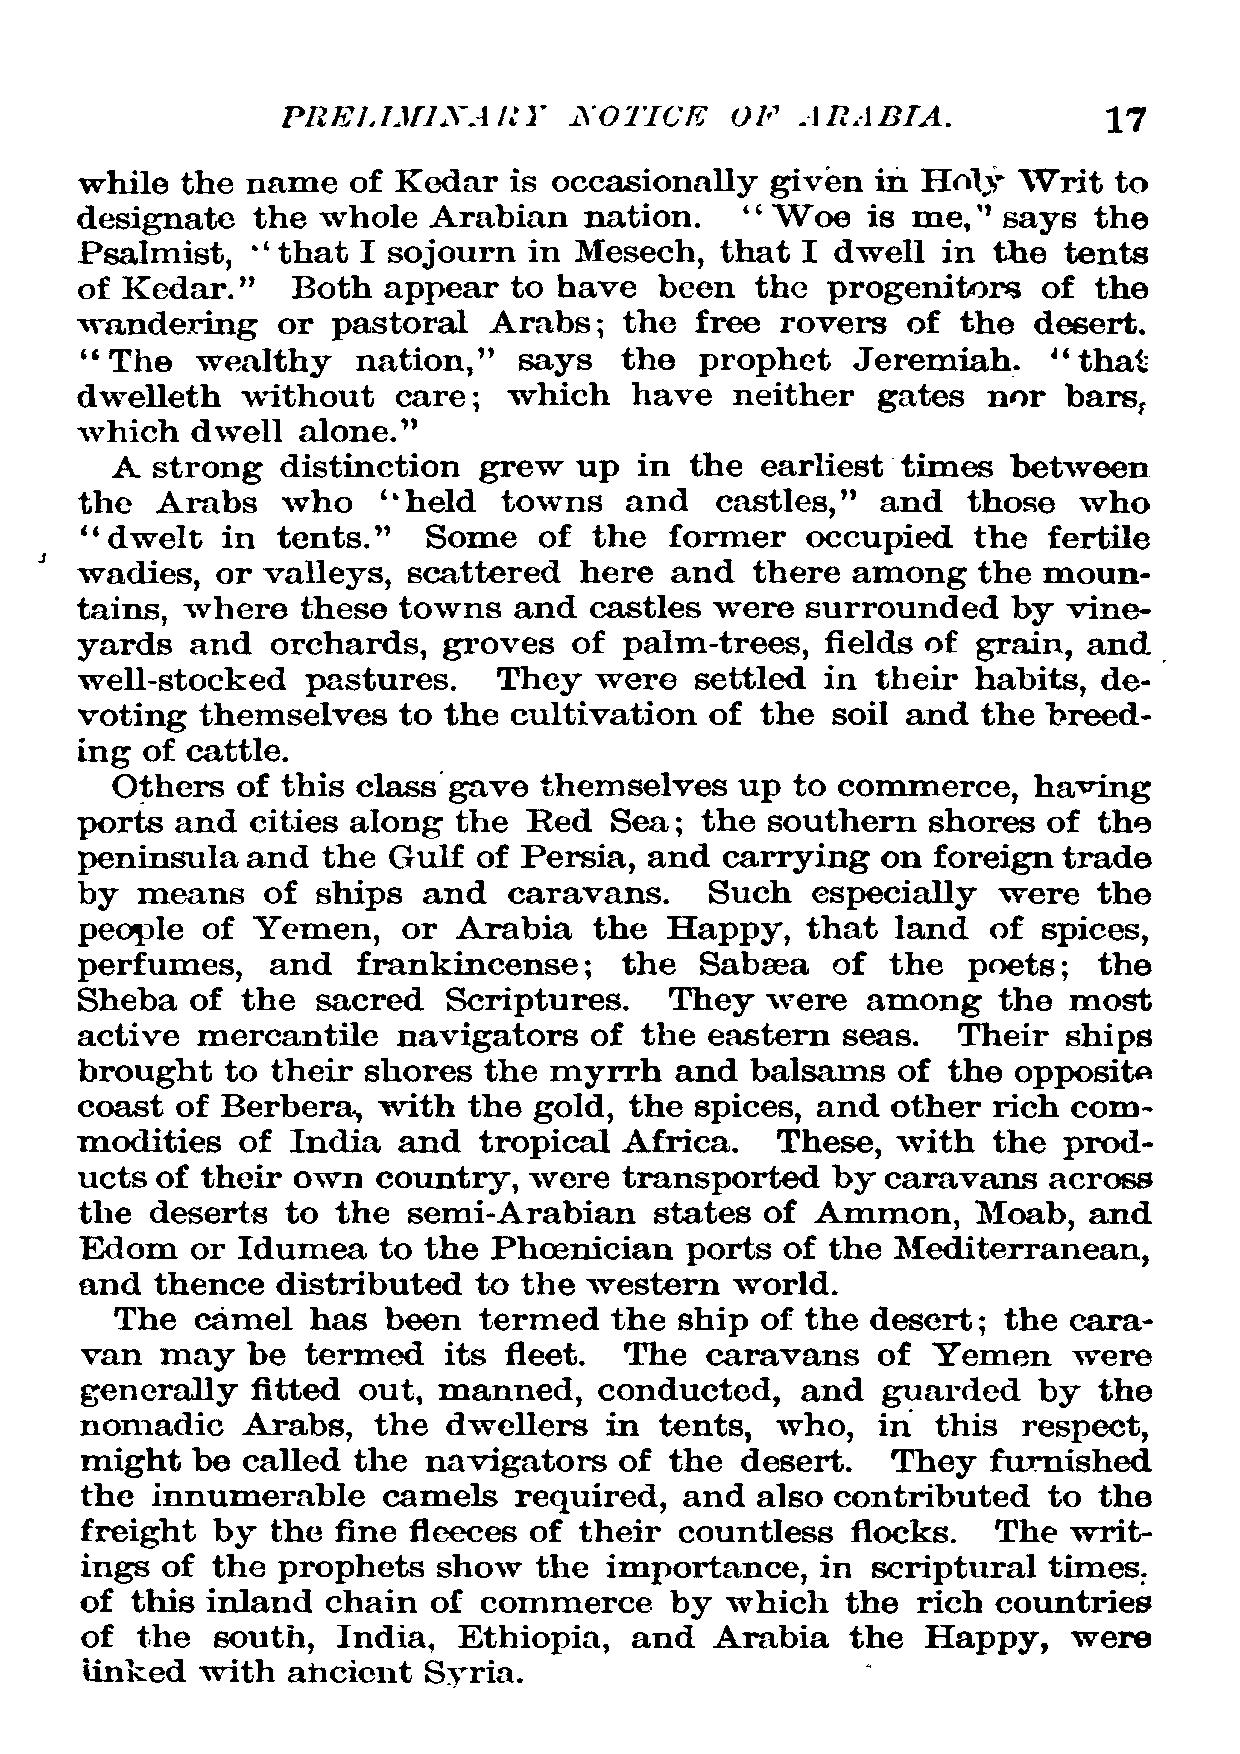content: (67, 160, 1155, 1691)
content_chapter: (279, 99, 954, 127)
content_pagenumber: (1098, 93, 1150, 136)
